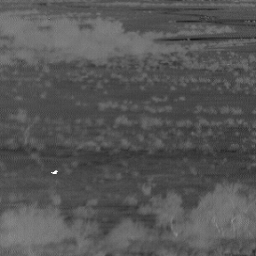Target: (49, 168, 59, 175)
